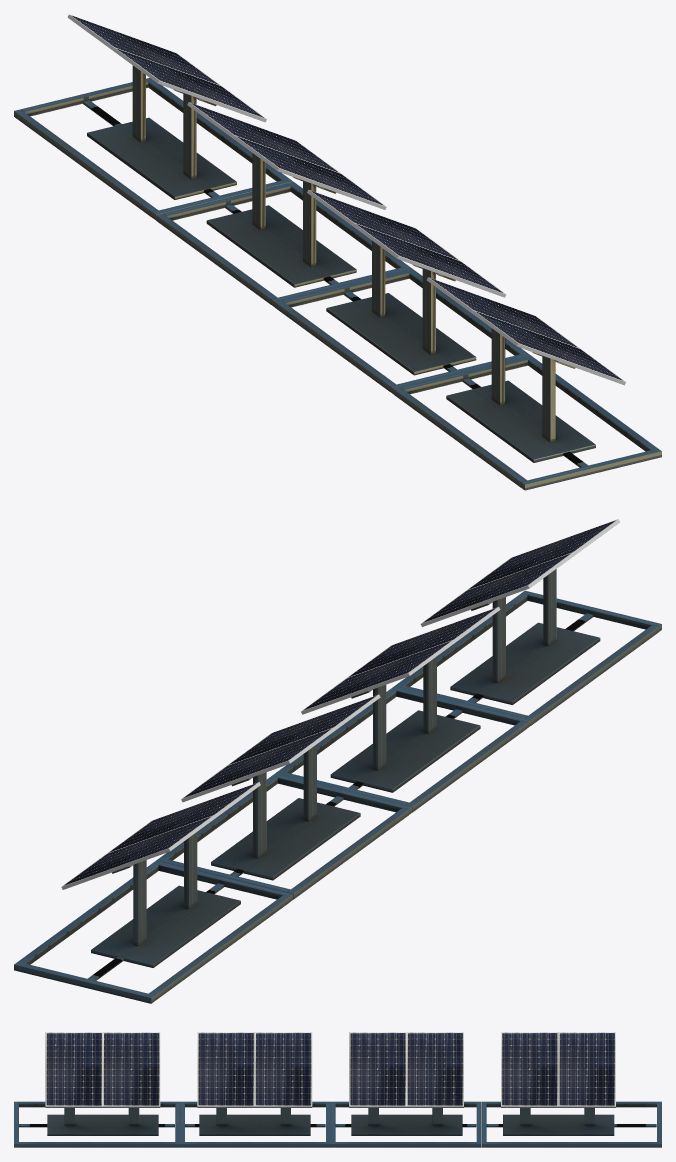
The model's file is Installation_components_Model.glb.
3 renders of one model, top to bottom at view 1: azimuth 30°, elevation 25°; view 2: azimuth 150°, elevation 25°; view 3: azimuth 270°, elevation 25°, orthographic. The views are drawn at different scales.
Visible parts, largest first — view 1: Panel_Support_Frame3, Panel_Support_Frame4, Panel_Support_Frame5, Panel_Support_Frame6, Base_Frame3, Base_Frame, Solar_Panels2, Solar_Panels3, Solar_Panels1, Solar_Panels, Base_Frame1, Base_Frame2; view 2: Panel_Support_Frame6, Panel_Support_Frame3, Panel_Support_Frame4, Panel_Support_Frame5, Base_Frame, Base_Frame3, Solar_Panels, Solar_Panels1, Solar_Panels2, Solar_Panels3, Base_Frame1, Base_Frame2; view 3: Solar_Panels3, Solar_Panels2, Solar_Panels1, Solar_Panels, Panel_Support_Frame3, Panel_Support_Frame4, Panel_Support_Frame5, Panel_Support_Frame6, Base_Frame, Base_Frame3, Base_Frame1, Base_Frame2.
Boxes of the visible parts, x1,y1,x2,y2 form: Panel_Support_Frame3: [446, 328, 595, 462]; Panel_Support_Frame4: [326, 240, 476, 375]; Panel_Support_Frame5: [206, 153, 356, 287]; Panel_Support_Frame6: [87, 65, 236, 199]; Base_Frame3: [393, 355, 661, 490]; Base_Frame: [14, 78, 292, 220]; Solar_Panels2: [307, 189, 506, 297]; Solar_Panels3: [426, 277, 625, 385]; Solar_Panels1: [187, 102, 386, 209]; Solar_Panels: [67, 14, 266, 122]; Base_Frame1: [156, 181, 411, 307]; Base_Frame2: [275, 268, 530, 393]; Panel_Support_Frame6: [91, 832, 240, 967]; Panel_Support_Frame3: [450, 569, 600, 704]; Panel_Support_Frame4: [330, 656, 480, 792]; Panel_Support_Frame5: [211, 744, 360, 880]; Base_Frame: [14, 860, 292, 1003]; Base_Frame3: [394, 590, 661, 725]; Solar_Panels: [61, 782, 260, 889]; Solar_Panels1: [181, 694, 380, 802]; Solar_Panels2: [301, 607, 500, 714]; Solar_Panels3: [420, 519, 619, 626]; Base_Frame1: [156, 773, 411, 899]; Base_Frame2: [275, 686, 530, 812]; Solar_Panels3: [45, 1032, 160, 1107]; Solar_Panels2: [197, 1032, 312, 1107]; Solar_Panels1: [349, 1032, 463, 1107]; Solar_Panels: [501, 1032, 615, 1107]; Panel_Support_Frame3: [47, 1108, 158, 1135]; Panel_Support_Frame4: [199, 1108, 310, 1135]; Panel_Support_Frame5: [351, 1108, 462, 1135]; Panel_Support_Frame6: [503, 1108, 614, 1135]; Base_Frame: [481, 1101, 661, 1147]; Base_Frame3: [14, 1101, 180, 1147]; Base_Frame1: [330, 1101, 481, 1147]; Base_Frame2: [180, 1101, 330, 1147].
Size of the model in its own units: 1.12 by 0.9775 by 7.25.
Materials: 3 (2 with a texture image).
